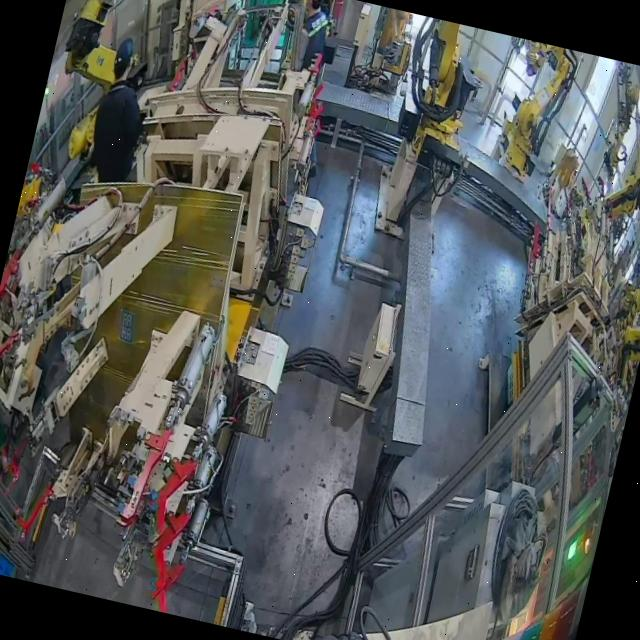Person: (80, 33, 162, 190), (288, 0, 336, 75)
